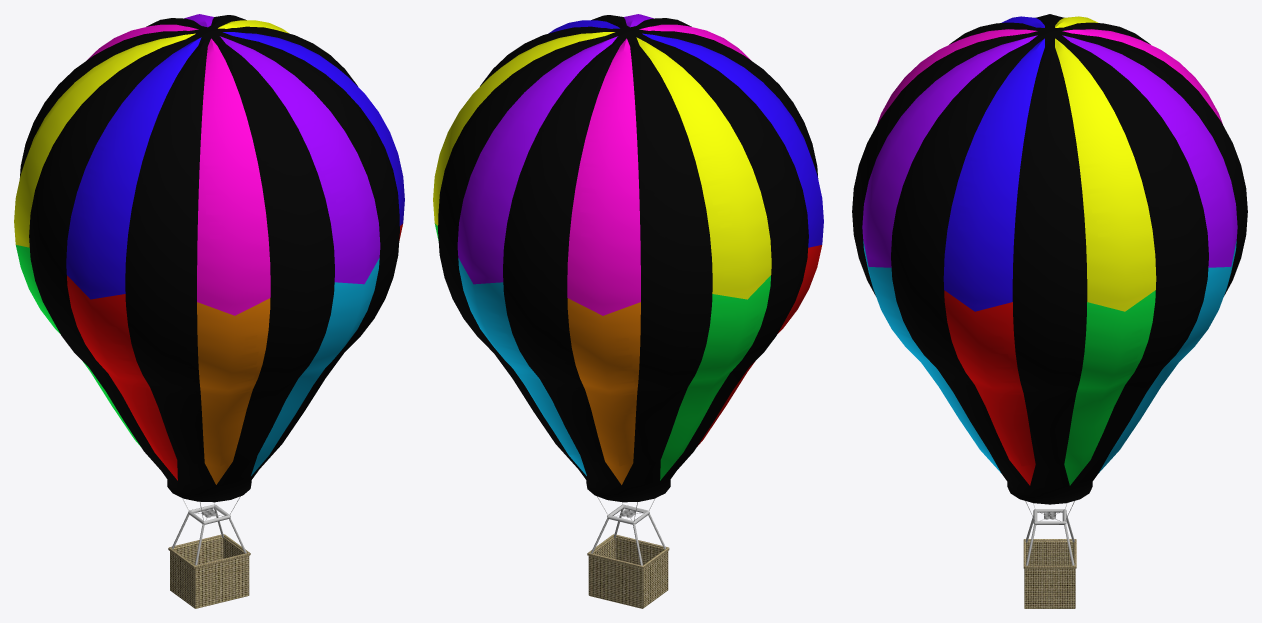
File: air5.glb
3 views of the same model, side by side, from view 1: azimuth 30°, elevation 25°; view 2: azimuth 150°, elevation 25°; view 3: azimuth 270°, elevation 25° (orthographic).
Parts seen in each view (by area): view 1: Object_8, Object_14, Object_10, Object_16, Object_13, Object_9, Object_12, Object_15, Object_2, Object_11, Object_7, Object_3; view 2: Object_8, Object_14, Object_12, Object_16, Object_13, Object_11, Object_10, Object_15, Object_2, Object_9, Object_7, Object_3; view 3: Object_8, Object_16, Object_10, Object_12, Object_9, Object_11, Object_15, Object_2, Object_14, Object_7.
Part boxes in pixels (bbox=[...]): Object_8: bbox=[19, 15, 399, 502]; Object_14: bbox=[87, 24, 270, 315]; Object_10: bbox=[66, 32, 404, 299]; Object_16: bbox=[184, 14, 380, 284]; Object_13: bbox=[197, 298, 270, 484]; Object_9: bbox=[67, 224, 402, 480]; Object_12: bbox=[14, 20, 289, 247]; Object_15: bbox=[251, 258, 379, 475]; Object_2: bbox=[170, 536, 249, 608]; Object_11: bbox=[16, 245, 140, 446]; Object_7: bbox=[171, 504, 246, 565]; Object_3: bbox=[168, 534, 250, 568]; Object_8: bbox=[438, 15, 818, 502]; Object_14: bbox=[567, 24, 750, 315]; Object_12: bbox=[433, 32, 771, 299]; Object_16: bbox=[457, 14, 653, 284]; Object_13: bbox=[567, 298, 640, 484]; Object_11: bbox=[434, 223, 770, 480]; Object_10: bbox=[548, 20, 823, 247]; Object_15: bbox=[458, 258, 586, 475]; Object_2: bbox=[588, 537, 668, 608]; Object_9: bbox=[697, 245, 821, 446]; Object_7: bbox=[591, 504, 665, 565]; Object_3: bbox=[587, 534, 669, 568]; Object_8: bbox=[852, 14, 1247, 504]; Object_16: bbox=[862, 35, 1237, 267]; Object_10: bbox=[943, 16, 1044, 311]; Object_12: bbox=[1055, 16, 1156, 311]; Object_9: bbox=[944, 290, 1035, 485]; Object_11: bbox=[1064, 290, 1155, 485]; Object_15: bbox=[863, 241, 1236, 473]; Object_2: bbox=[1024, 541, 1075, 608]; Object_14: bbox=[877, 29, 1222, 124]; Object_7: bbox=[1025, 509, 1074, 565].
Size of the model in its own units: 3.79 by 5.96 by 3.79.
Materials: 15 (15 with a texture image).
